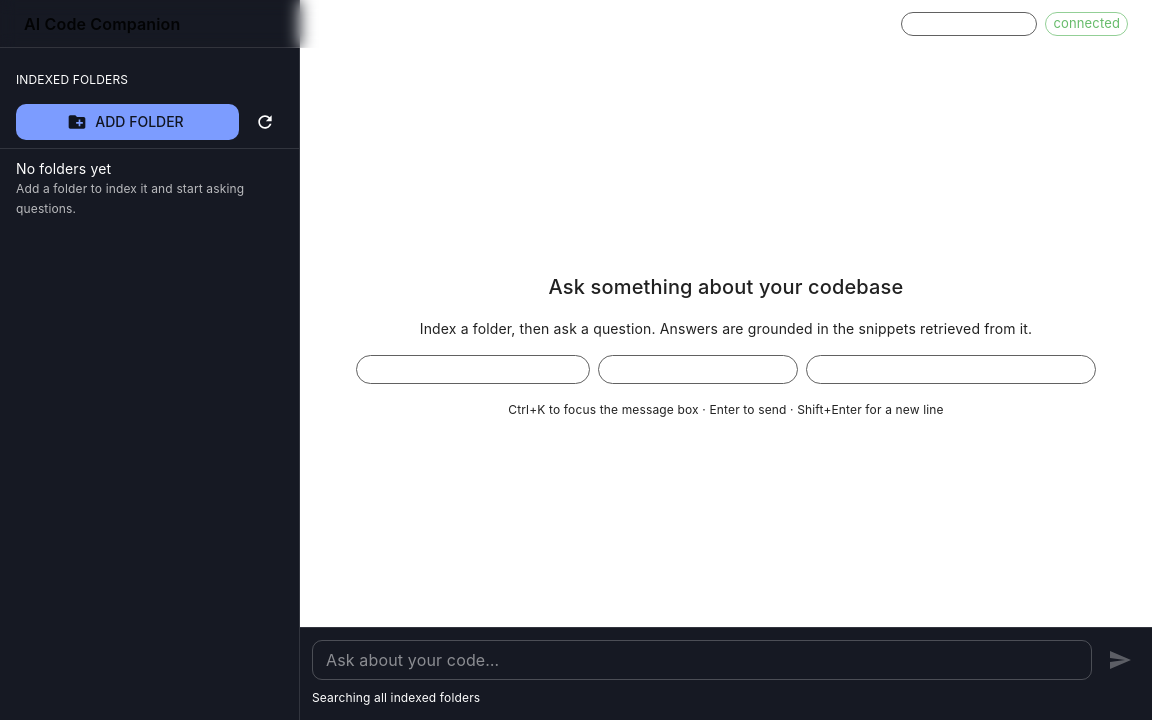
App › warns that an in-memory index will not survive a restart
Hover over the text "memory · 0 chunks" at (969, 24), box [902,14,1036,33]
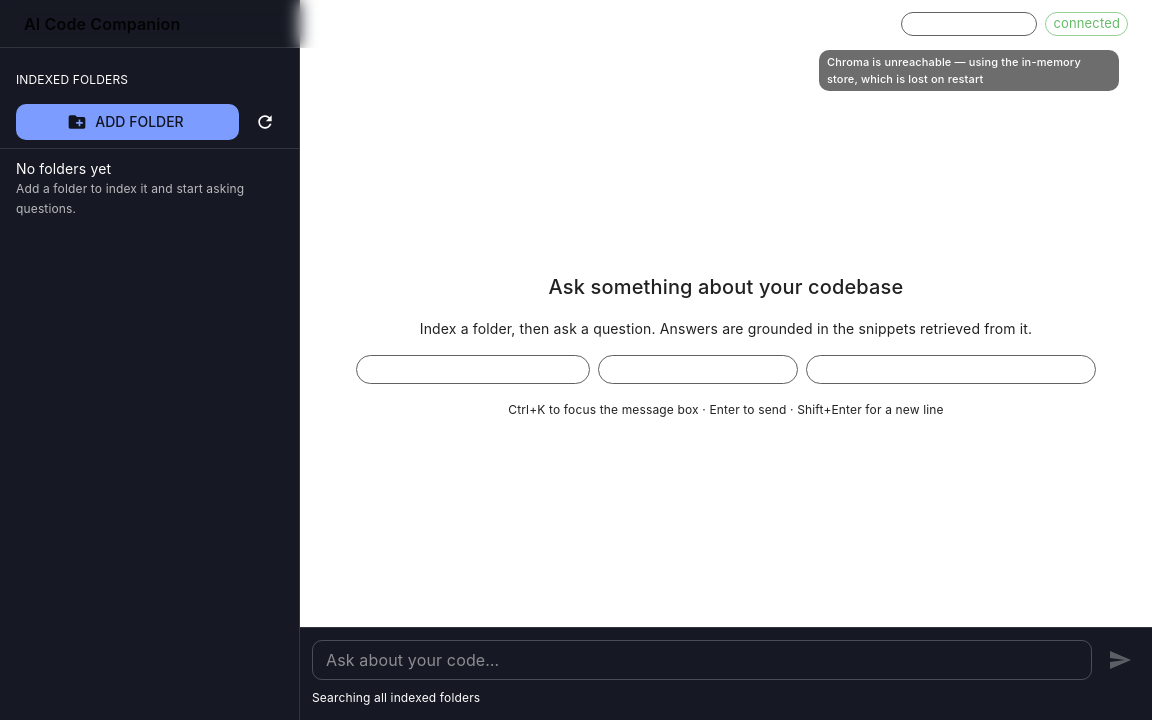
Expected: the tooltip shows "lost on restart", [827,55,1081,86]
